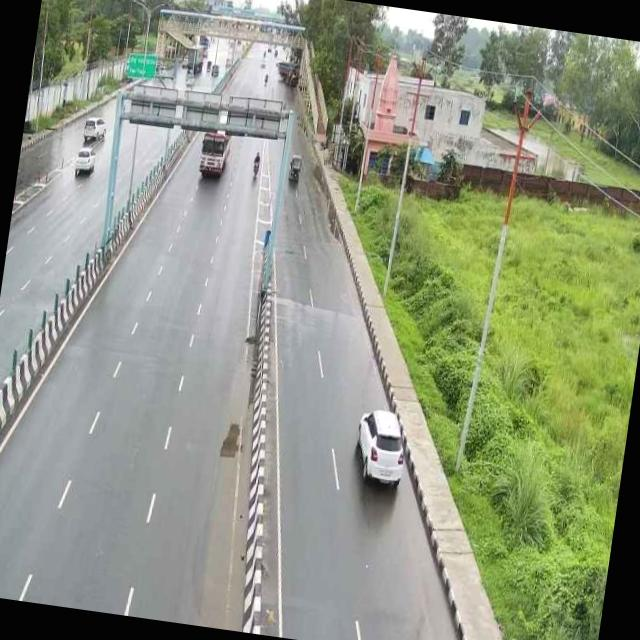car: (346, 402, 416, 497), (68, 140, 100, 180), (82, 112, 110, 148), (284, 149, 308, 186)
